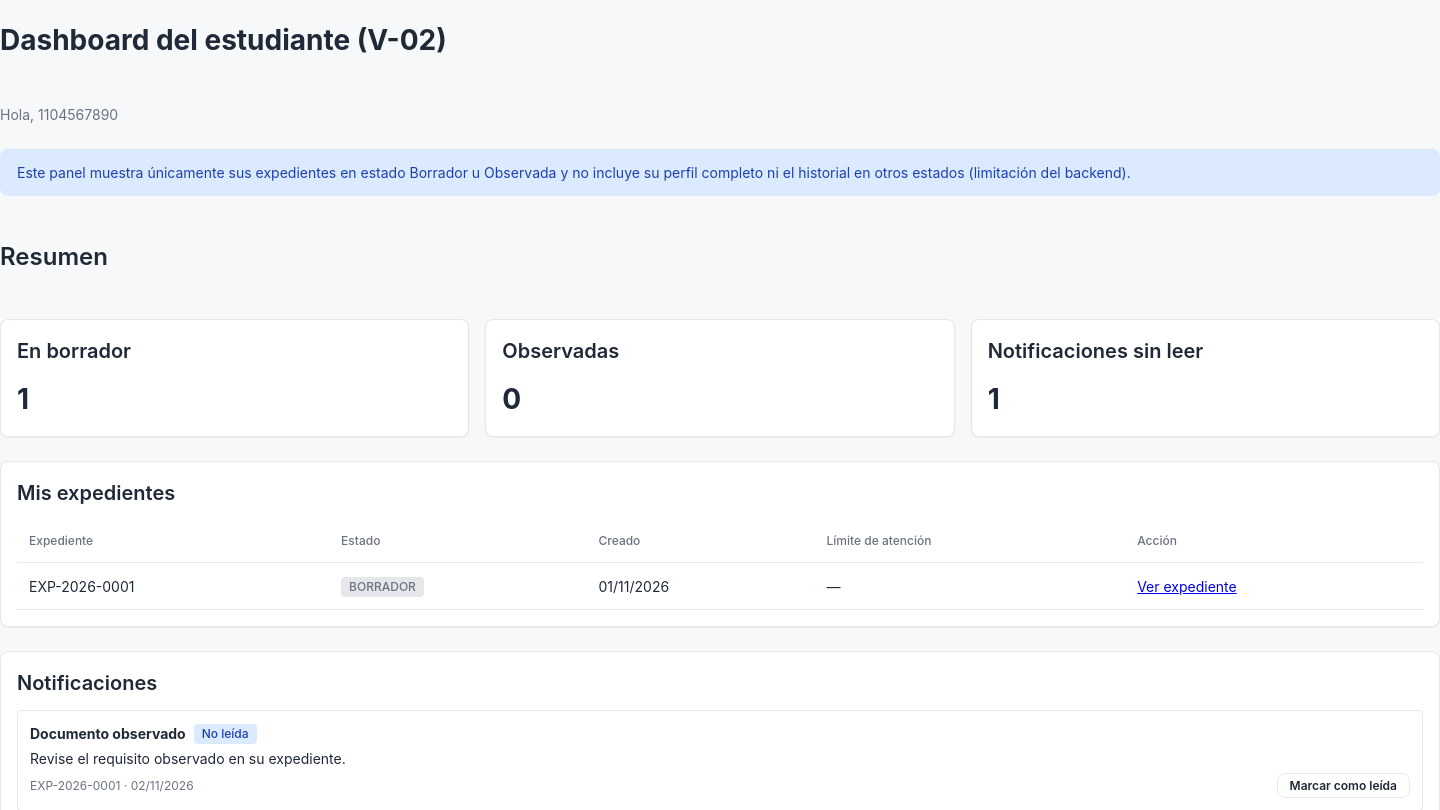
Test case: StudentDashboardPage (V-02) › FE-T204: registra el expediente visitado como acceso rápido
The width and height of the screenshot is (1440, 810).
Click the link "Ver expediente" at (1187, 586), box left=1137, top=578, right=1237, bottom=595
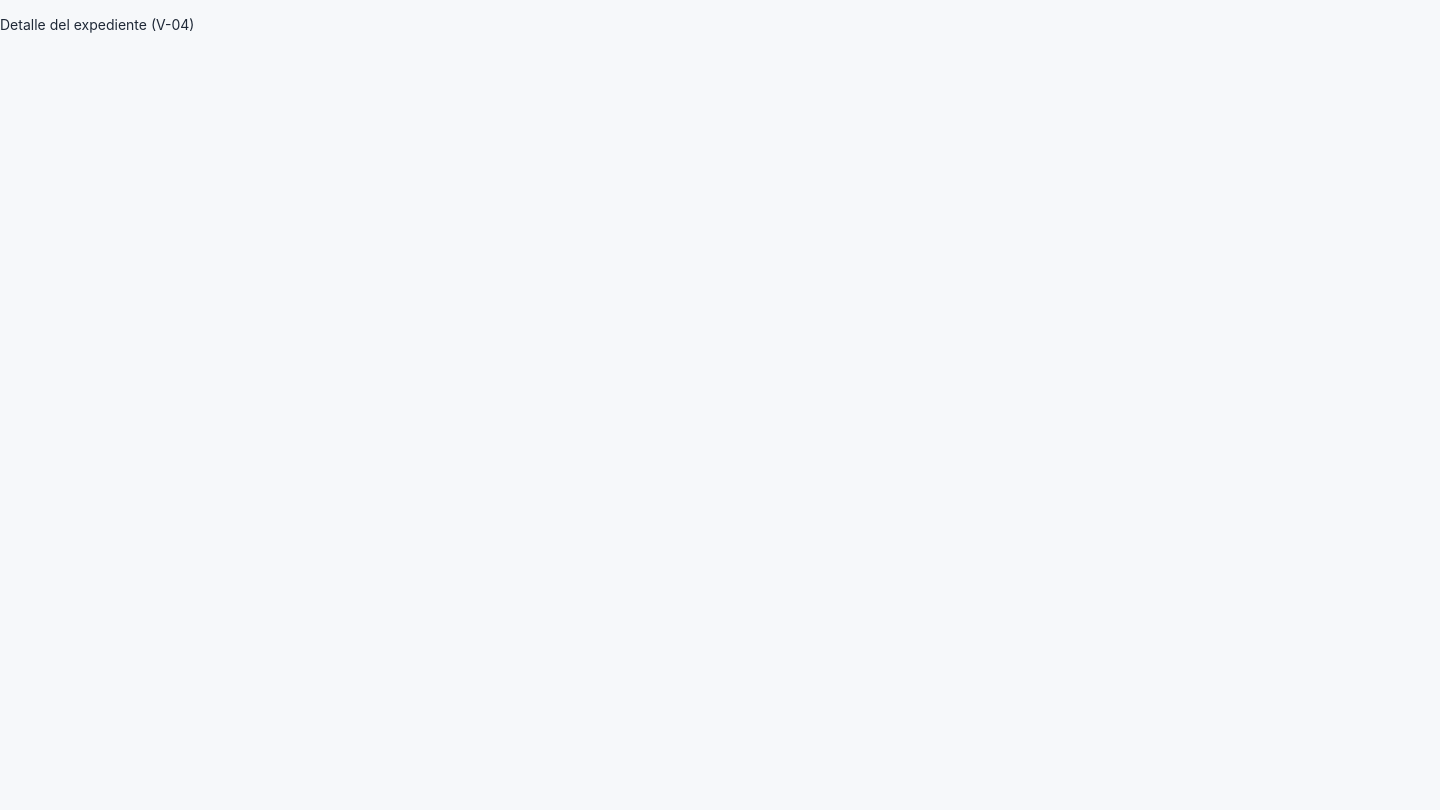
Result: the text "Detalle del expediente (V-04)" is shown at left=0, top=16, right=194, bottom=33
